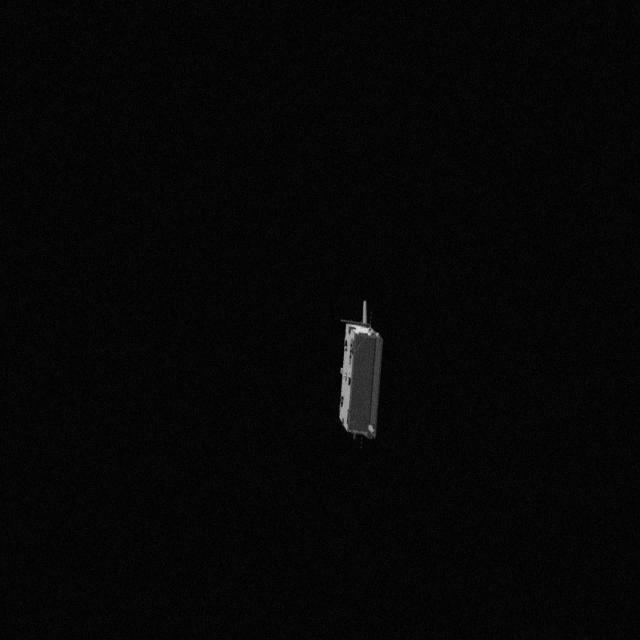satellite: (332, 286, 392, 454)
